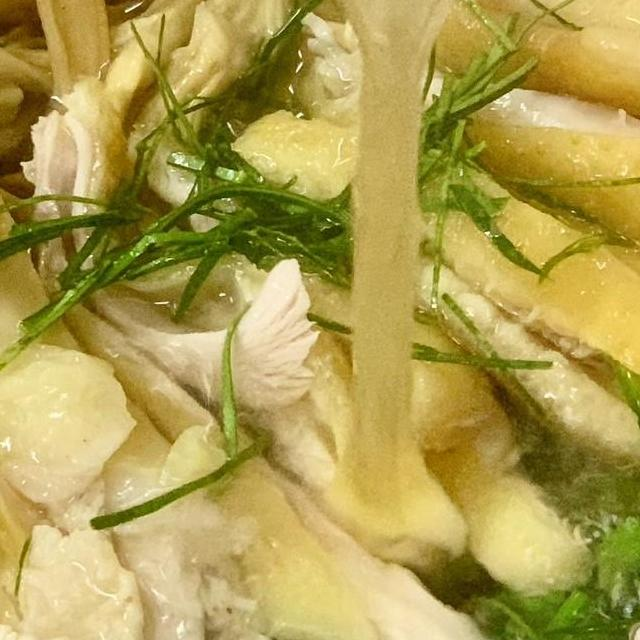thit ga: (11, 76, 536, 640), (0, 98, 379, 640), (220, 96, 640, 504), (281, 0, 640, 351), (0, 106, 159, 640), (364, 0, 640, 238)
